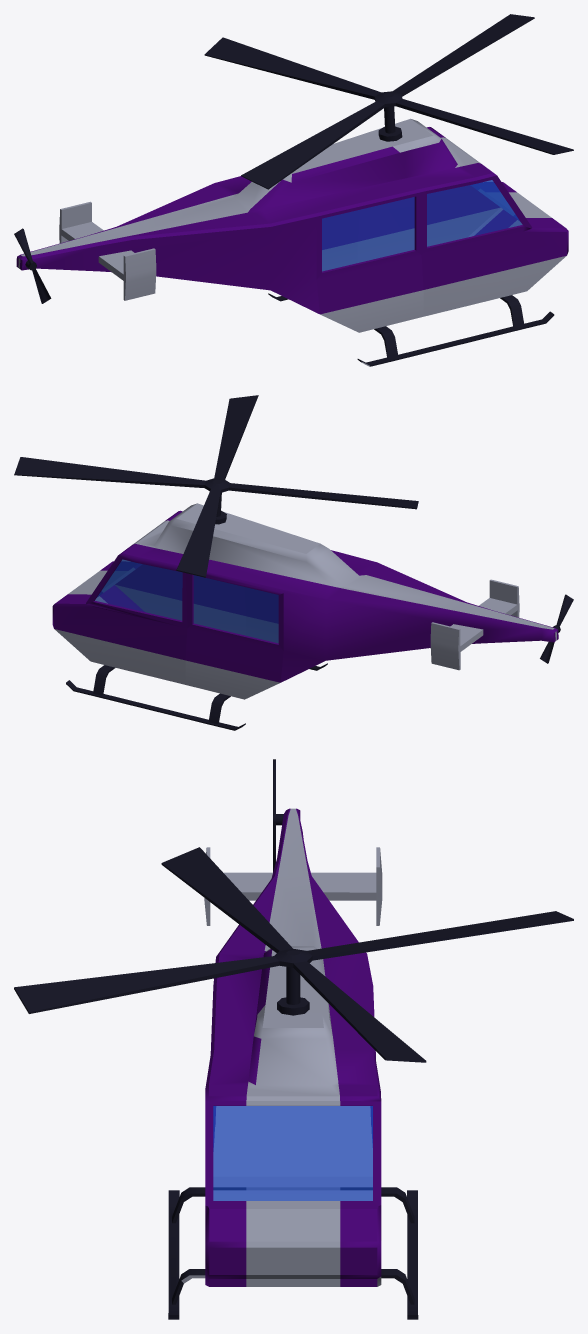
Rendered from airplane 1.fbx.
3 renders of one model, top to bottom at view 1: azimuth 30°, elevation 25°; view 2: azimuth 150°, elevation 25°; view 3: azimuth 270°, elevation 25°, orthographic. The views are drawn at different scales.
Parts seen in each view (by area): view 1: Cube1; view 2: Cube1; view 3: Cube1.
Boxes of the visible parts, x1,y1,x2,y2 form: Cube1: [14, 14, 573, 366]; Cube1: [14, 395, 573, 730]; Cube1: [14, 759, 573, 1319].
Size of the model in its own units: 683 by 267 by 442.
